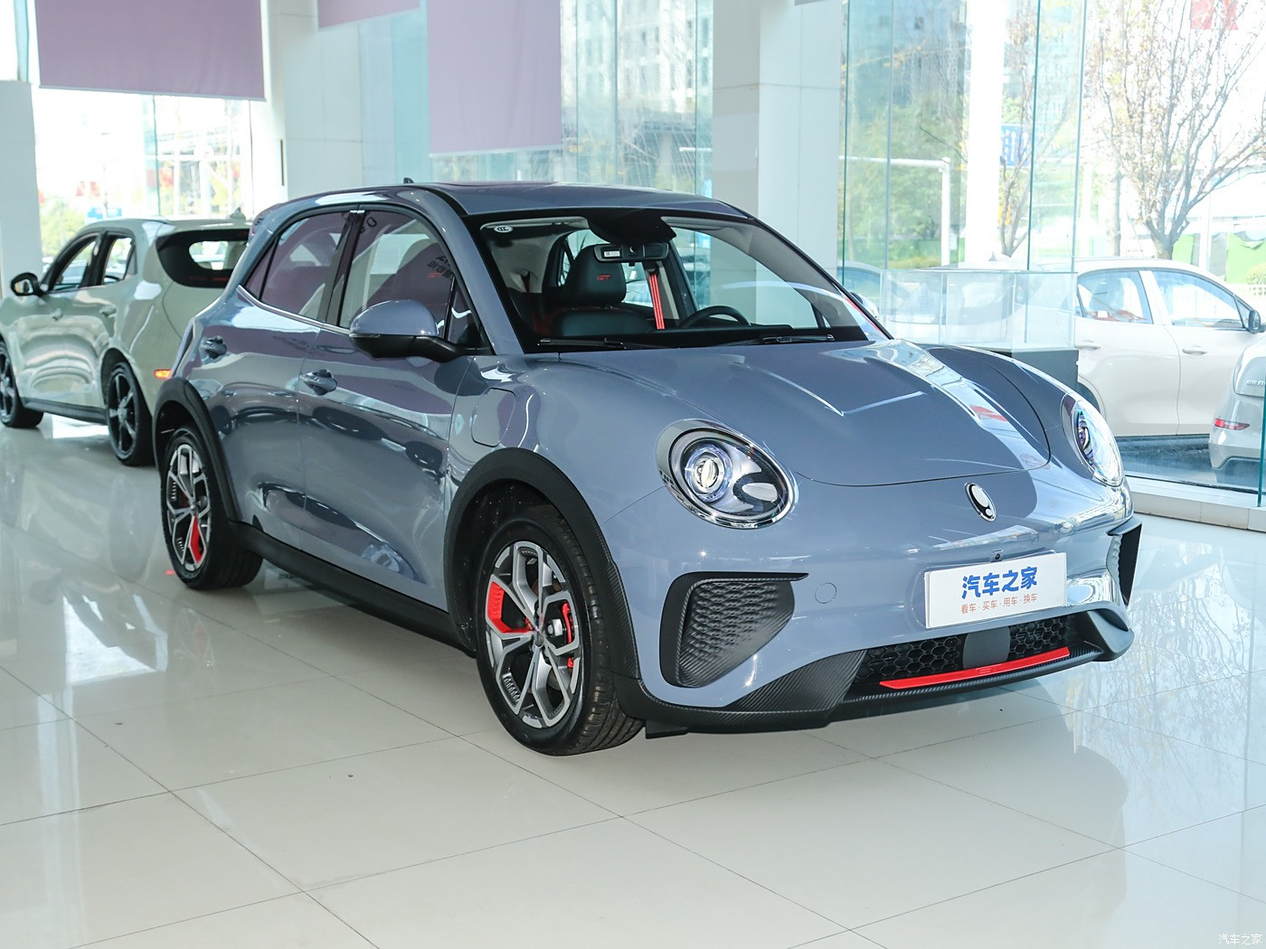ORA: (967, 483, 995, 521)
